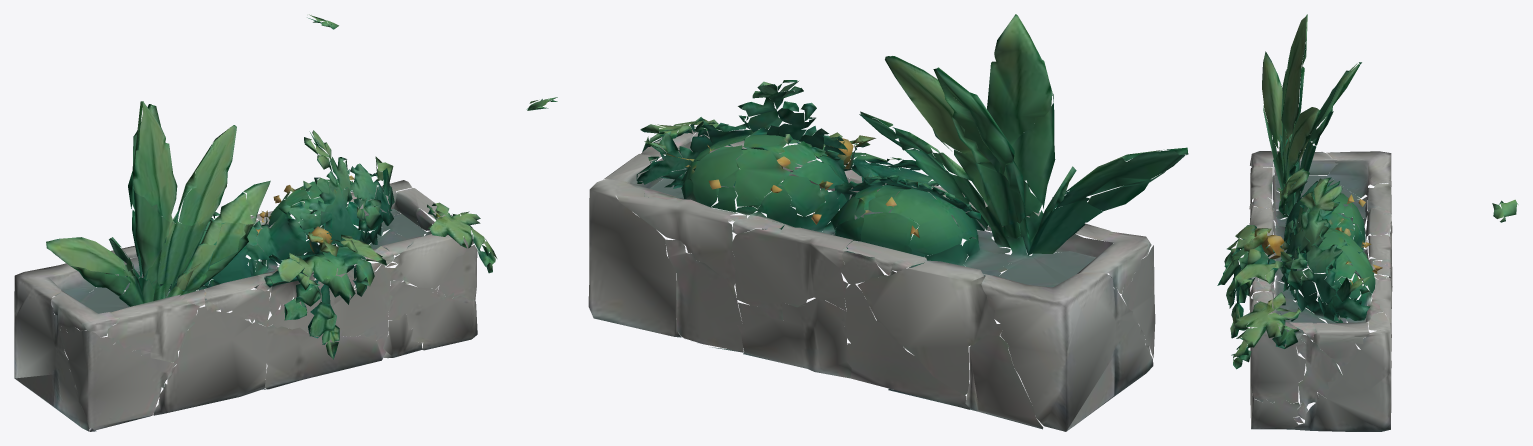
The model's file is green10.glb.
3 views of the same model, side by side, from view 1: azimuth 30°, elevation 25°; view 2: azimuth 150°, elevation 25°; view 3: azimuth 270°, elevation 25° (orthographic). The views are drawn at different scales.
Visible parts, largest first — view 1: tripo_node_70420c45-0e7a-46cd-97cc-ea0dafb91973; view 2: tripo_node_70420c45-0e7a-46cd-97cc-ea0dafb91973; view 3: tripo_node_70420c45-0e7a-46cd-97cc-ea0dafb91973.
Boxes of the visible parts, x1=… form: tripo_node_70420c45-0e7a-46cd-97cc-ea0dafb91973: x1=14, y1=14, x2=497, y2=431; tripo_node_70420c45-0e7a-46cd-97cc-ea0dafb91973: x1=526, y1=14, x2=1188, y2=431; tripo_node_70420c45-0e7a-46cd-97cc-ea0dafb91973: x1=1217, y1=14, x2=1518, y2=431.
Bounding box in the file's own units: 0.9944 × 0.6292 × 0.6215.
1 material, 1 textured.
